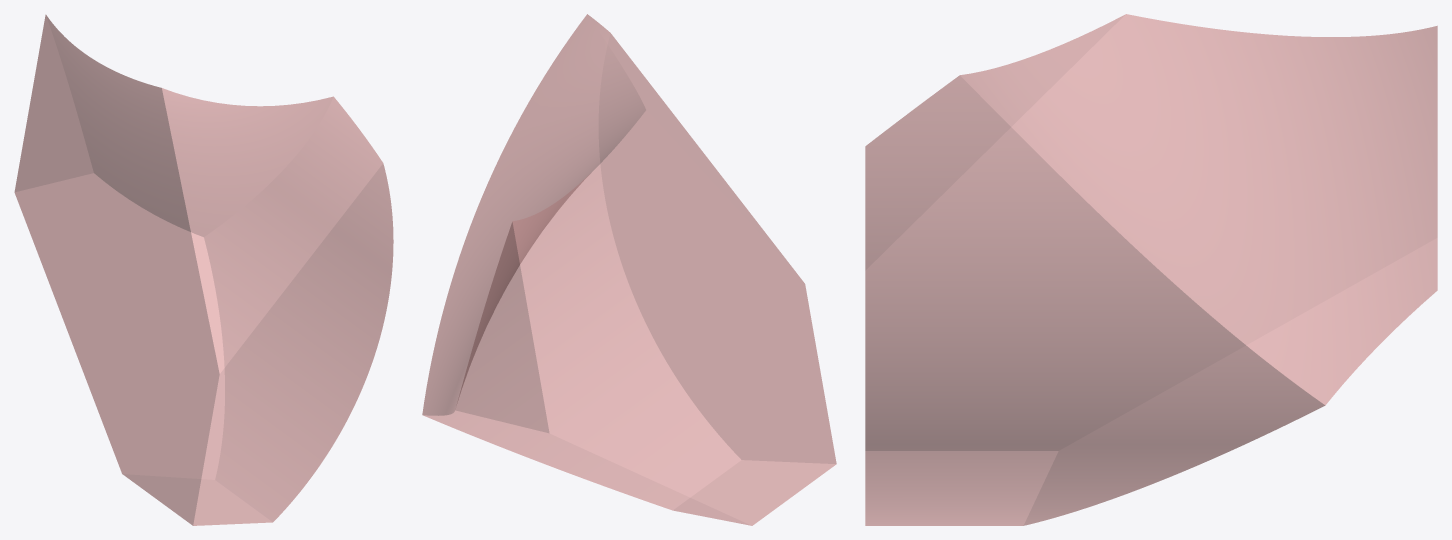
3 views of the same model, side by side, from view 1: azimuth 30°, elevation 25°; view 2: azimuth 150°, elevation 25°; view 3: azimuth 270°, elevation 25° (orthographic). The views are drawn at different scales.
Visible parts, largest first — view 1: Bloc = Etape 5; view 2: Bloc = Etape 5; view 3: Bloc = Etape 5.
Boxes of the visible parts, left/top/right/bottom form: Bloc = Etape 5: left=14, top=14, right=393, bottom=525; Bloc = Etape 5: left=422, top=14, right=836, bottom=525; Bloc = Etape 5: left=865, top=14, right=1437, bottom=525.
Size of the model in its own units: 0.3231 by 0.5815 by 0.5869.
